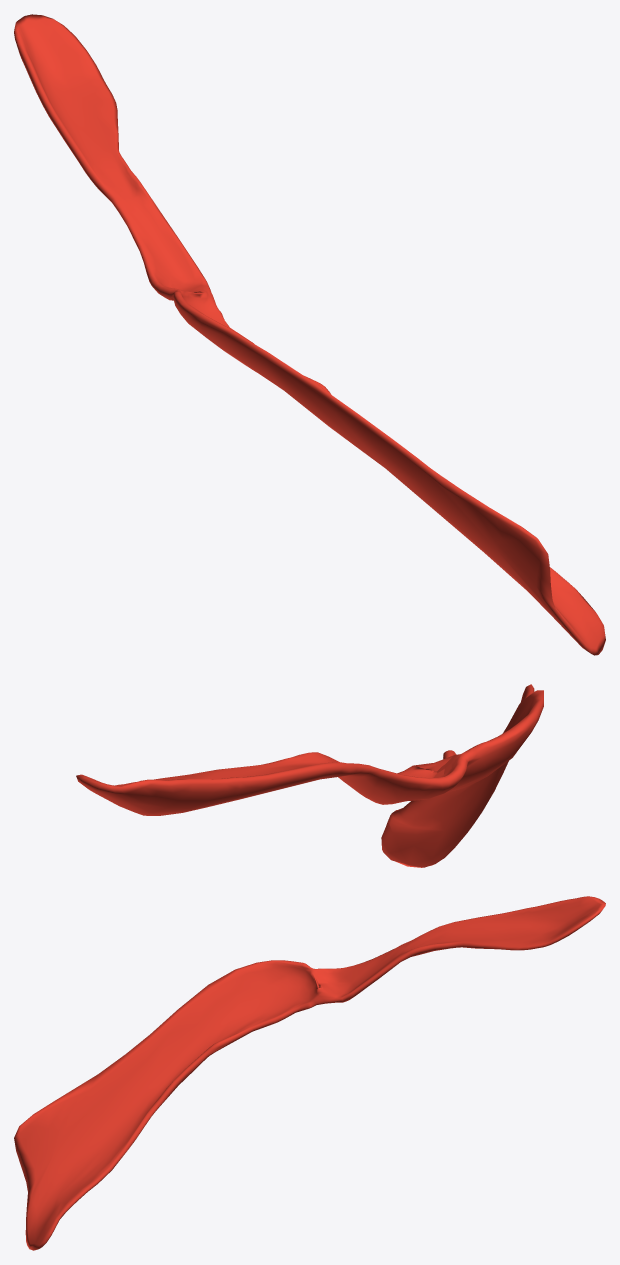
Rendered from Masseter_on_zygomatic_arch.r_Generated_Mesh_From_X3D.4520.glb.
The picture shows the model from 3 angles, top to bottom: view 1: azimuth 30°, elevation 25°; view 2: azimuth 150°, elevation 25°; view 3: azimuth 270°, elevation 25°; orthographic projection. The views are drawn at different scales.
Visible parts, largest first — view 1: Masseter_on_zygomatic_arch.r_Generated_Mesh_From_X3D.4520; view 2: Masseter_on_zygomatic_arch.r_Generated_Mesh_From_X3D.4520; view 3: Masseter_on_zygomatic_arch.r_Generated_Mesh_From_X3D.4520.
Boxes of the visible parts, x1,y1,x2,y2 form: Masseter_on_zygomatic_arch.r_Generated_Mesh_From_X3D.4520: (14, 14, 605, 655); Masseter_on_zygomatic_arch.r_Generated_Mesh_From_X3D.4520: (76, 684, 543, 867); Masseter_on_zygomatic_arch.r_Generated_Mesh_From_X3D.4520: (14, 896, 605, 1250).
Bounding box in the file's own units: 0.0169 × 0.0244 × 0.0462.
